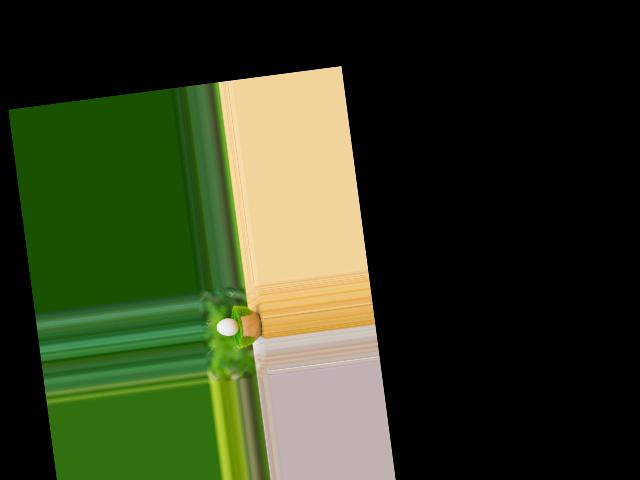egg: (216, 317, 240, 338)
